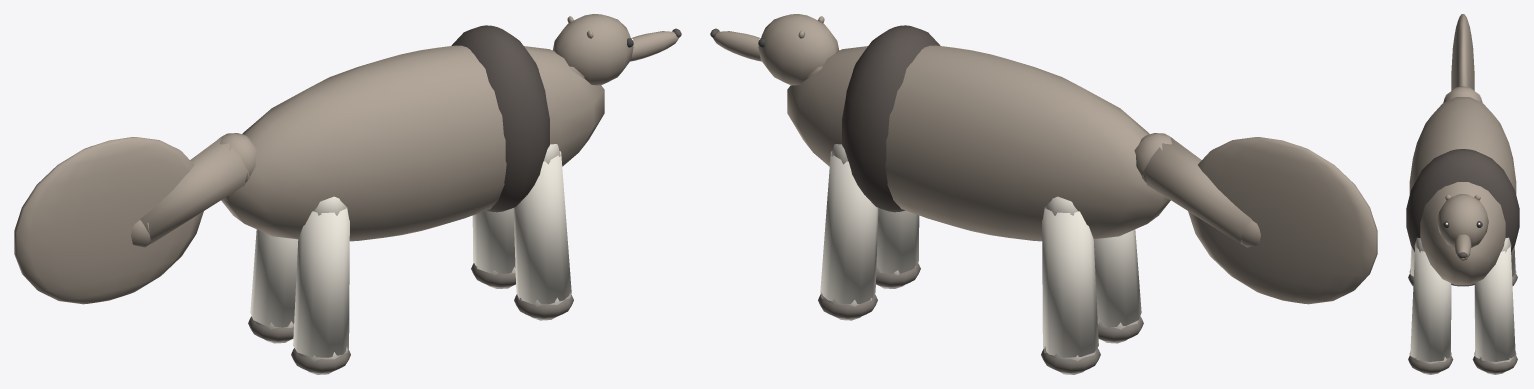
Rendered from giant-anteater.glb.
The picture shows the model from 3 angles, left to right: view 1: azimuth 30°, elevation 25°; view 2: azimuth 150°, elevation 25°; view 3: azimuth 270°, elevation 25°; orthographic projection. The views are drawn at different scales.
Parts seen in each view (by area): view 1: e, e.025, e.008, e.002, e.016, e.011, e.005; view 2: e, e.025, e.011, e.005, e.016, e.008, e.002; view 3: e, e.002, e.005, e.016, e.025, e.008, e.011.
Part boxes in pixels (left/top/right/bottom): e: left=221, top=25, right=604, bottom=241; e.025: left=14, top=133, right=257, bottom=304; e.008: left=291, top=196, right=350, bottom=374; e.002: left=513, top=144, right=573, bottom=320; e.016: left=552, top=14, right=681, bottom=85; e.011: left=248, top=229, right=298, bottom=343; e.005: left=471, top=208, right=515, bottom=288; e: left=787, top=25, right=1170, bottom=241; e.025: left=1134, top=133, right=1377, bottom=304; e.011: left=1041, top=196, right=1100, bottom=374; e.005: left=818, top=144, right=878, bottom=320; e.016: left=710, top=14, right=839, bottom=85; e.008: left=1093, top=229, right=1143, bottom=343; e.002: left=876, top=208, right=920, bottom=288; e: left=1406, top=97, right=1519, bottom=286; e.002: left=1408, top=237, right=1453, bottom=374; e.005: left=1472, top=237, right=1517, bottom=374; e.016: left=1437, top=194, right=1488, bottom=260; e.025: left=1443, top=14, right=1482, bottom=102; e.008: left=1408, top=246, right=1414, bottom=285; e.011: left=1511, top=246, right=1517, bottom=285.
Size of the model in its own units: 2.15 by 0.8624 by 0.4197.
